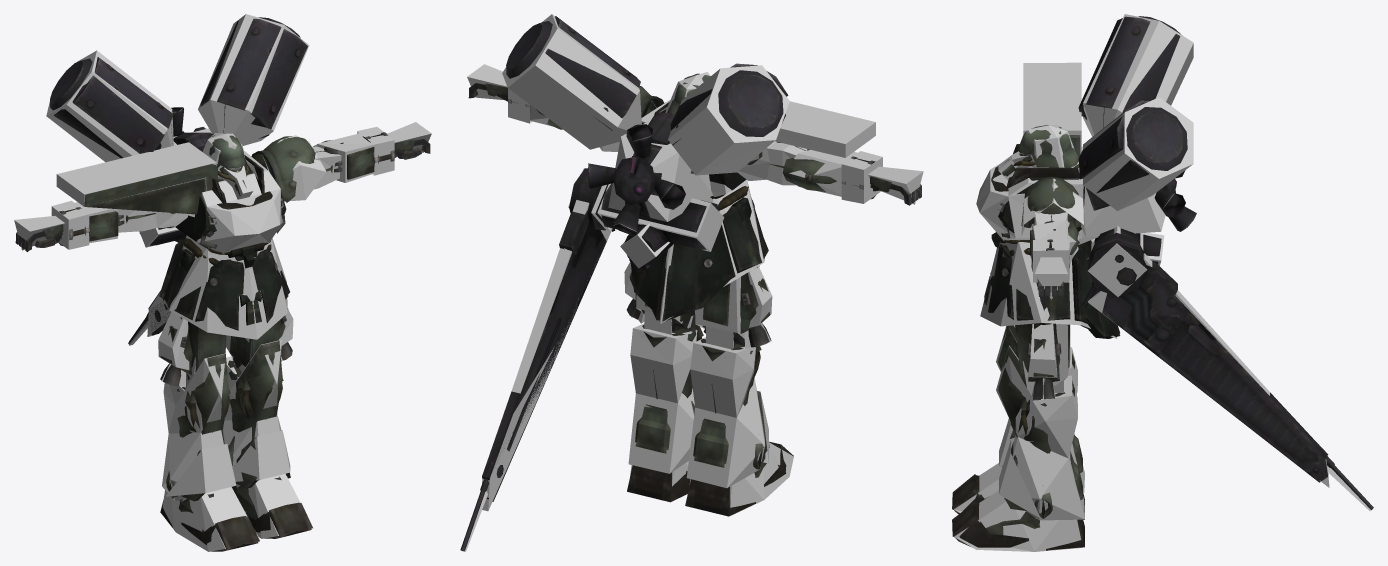
3 renders of one model, left to right at view 1: azimuth 30°, elevation 25°; view 2: azimuth 150°, elevation 25°; view 3: azimuth 270°, elevation 25°, orthographic. The views are drawn at different scales.
Parts seen in each view (by area): view 1: surface_003, surface_000, surface_004, surface_002; view 2: surface_003, surface_002, surface_004, surface_000, surface_006; view 3: surface_003, surface_002, surface_000, surface_004, surface_006.
Boxes of the visible parts, x1=… form: surface_003: x1=14, y1=14, x2=431, y2=551; surface_000: x1=15, y1=132, x2=423, y2=551; surface_004: x1=15, y1=134, x2=421, y2=550; surface_002: x1=50, y1=17, x2=307, y2=343; surface_003: x1=461, y1=14, x2=923, y2=551; surface_002: x1=460, y1=16, x2=788, y2=551; surface_004: x1=468, y1=76, x2=921, y2=516; surface_000: x1=469, y1=73, x2=921, y2=503; surface_006: x1=482, y1=112, x2=685, y2=501; surface_003: x1=954, y1=14, x2=1370, y2=551; surface_002: x1=1078, y1=16, x2=1373, y2=509; surface_000: x1=952, y1=125, x2=1112, y2=550; surface_004: x1=952, y1=125, x2=1120, y2=550; surface_006: x1=1094, y1=108, x2=1348, y2=484.
Bounding box in the file's own units: 223 × 235 × 193.
